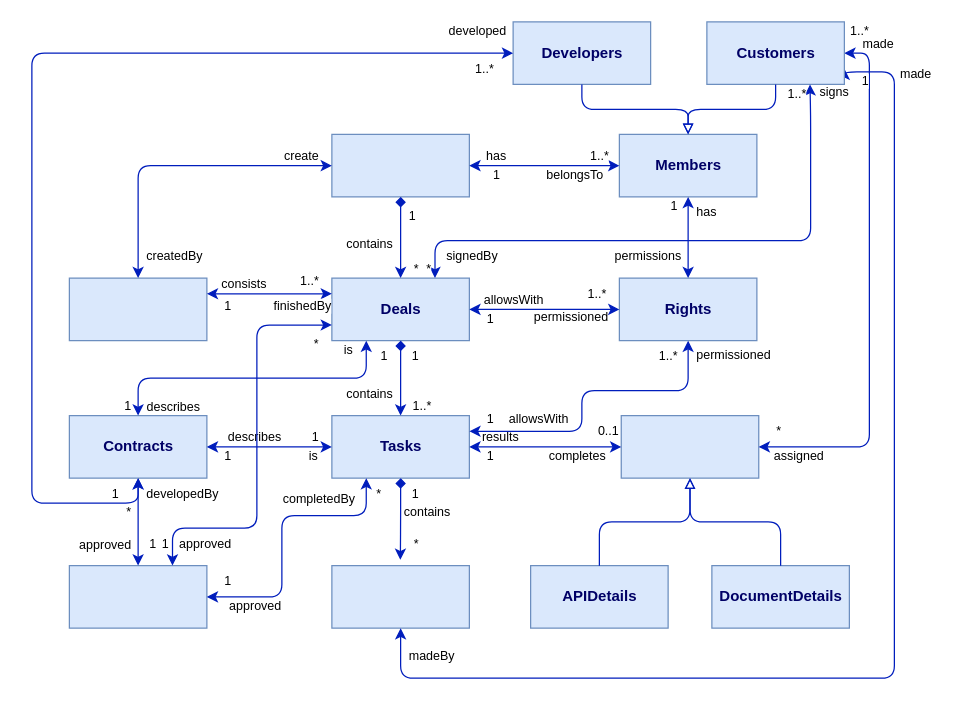
Some shapes in this 954 by 711 pixel diagram are drawn without their labels. The shapes that lost their labels are listed below. From the top down, each one's centre as x and y in pixels, then its label:
the point at 400,165: Accounts
the point at 137,309: Templates
the point at 689,446: ProofOfWork
the point at 137,596: AML
the point at 400,596: Comments
